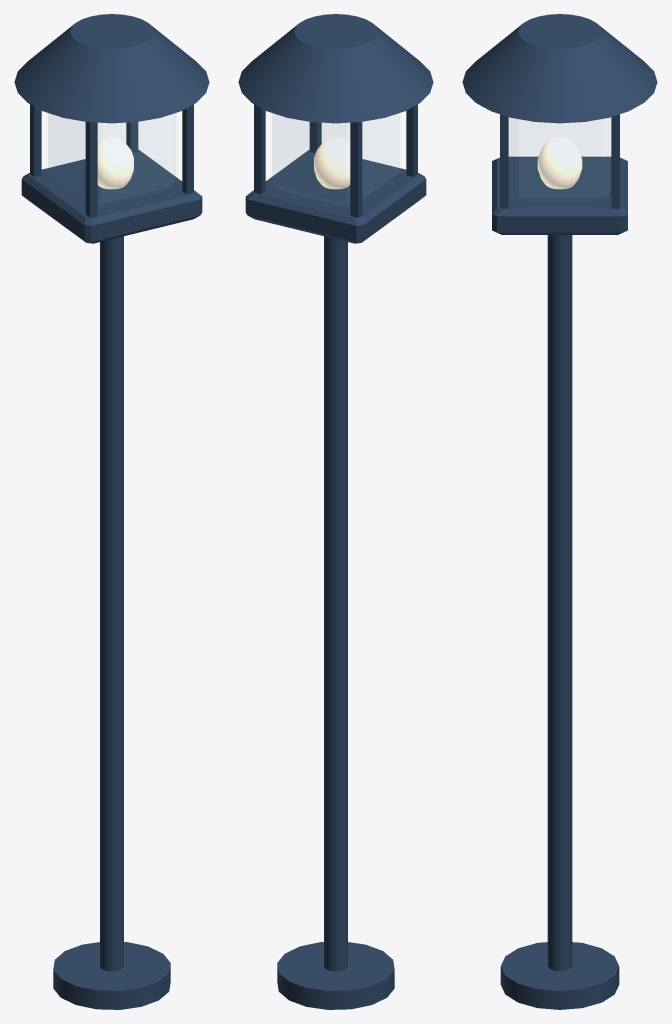
File: v18_street_lantern.glb
3 renders of one model, left to right at view 1: azimuth 30°, elevation 25°; view 2: azimuth 150°, elevation 25°; view 3: azimuth 270°, elevation 25°, orthographic.
Visible parts, largest first — view 1: _MeshInstance3D_4234, _MeshInstance3D_4235, _MeshInstance3D_4241, _MeshInstance3D_4233, _MeshInstance3D_4242, _MeshInstance3D_4237, _MeshInstance3D_4239, _MeshInstance3D_4236; view 2: _MeshInstance3D_4234, _MeshInstance3D_4235, _MeshInstance3D_4241, _MeshInstance3D_4233, _MeshInstance3D_4242, _MeshInstance3D_4236, _MeshInstance3D_4238, _MeshInstance3D_4237; view 3: _MeshInstance3D_4234, _MeshInstance3D_4235, _MeshInstance3D_4241, _MeshInstance3D_4233, _MeshInstance3D_4242, _MeshInstance3D_4238, _MeshInstance3D_4239.
Boxes of the visible parts, x1,y1,x2,y2 form: _MeshInstance3D_4234: [100, 236, 123, 971]; _MeshInstance3D_4235: [14, 14, 209, 123]; _MeshInstance3D_4241: [21, 149, 202, 243]; _MeshInstance3D_4233: [53, 942, 170, 1009]; _MeshInstance3D_4242: [97, 137, 133, 189]; _MeshInstance3D_4237: [85, 122, 97, 217]; _MeshInstance3D_4239: [182, 104, 193, 194]; _MeshInstance3D_4236: [30, 104, 41, 176]; _MeshInstance3D_4234: [324, 236, 347, 971]; _MeshInstance3D_4235: [238, 14, 433, 123]; _MeshInstance3D_4241: [245, 149, 426, 243]; _MeshInstance3D_4233: [277, 942, 394, 1009]; _MeshInstance3D_4242: [314, 137, 350, 189]; _MeshInstance3D_4236: [350, 122, 362, 217]; _MeshInstance3D_4238: [254, 104, 265, 194]; _MeshInstance3D_4237: [406, 104, 417, 176]; _MeshInstance3D_4234: [547, 235, 572, 970]; _MeshInstance3D_4235: [462, 14, 657, 123]; _MeshInstance3D_4241: [492, 156, 627, 234]; _MeshInstance3D_4233: [500, 942, 619, 1009]; _MeshInstance3D_4242: [537, 137, 582, 189]; _MeshInstance3D_4238: [611, 114, 619, 208]; _MeshInstance3D_4239: [500, 114, 508, 208].
Bounding box in the file's own units: 0.5563 × 3 × 0.5563.
